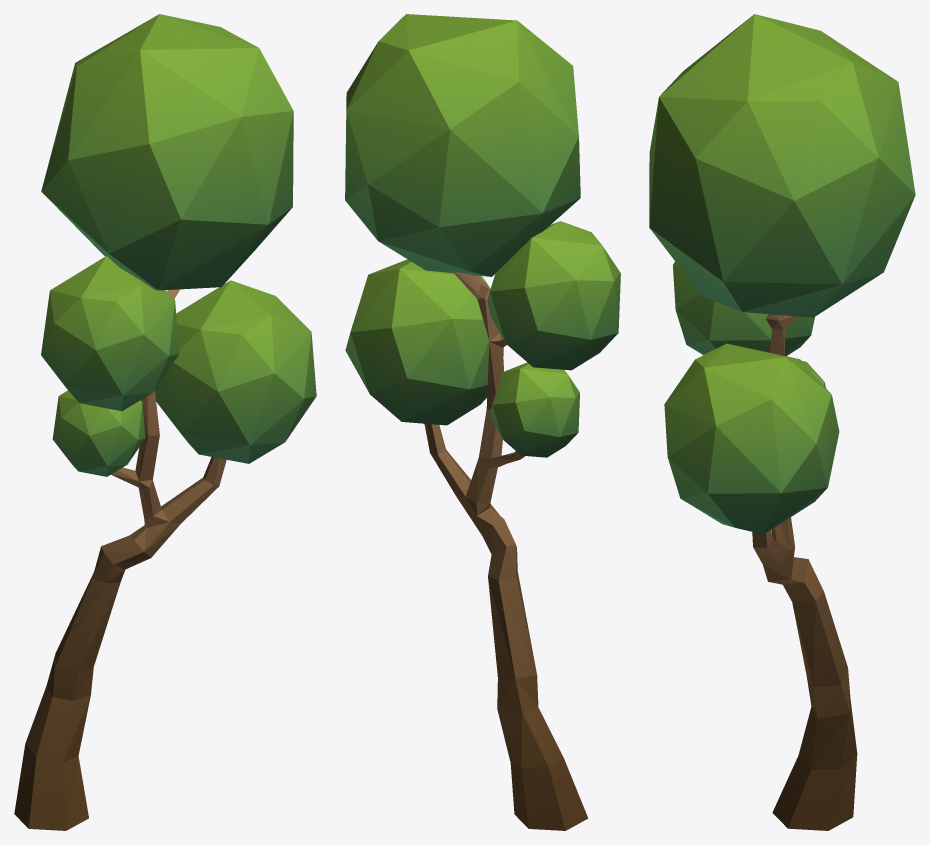
The model's file is ZLP_Plant_I_8.FBX.
The picture shows the model from 3 angles, left to right: view 1: azimuth 30°, elevation 25°; view 2: azimuth 150°, elevation 25°; view 3: azimuth 270°, elevation 25°; orthographic projection. The views are drawn at different scales.
Visible parts, largest first — view 1: ZLP_Plant_I_8; view 2: ZLP_Plant_I_8; view 3: ZLP_Plant_I_8.
Boxes of the visible parts, x1=… form: ZLP_Plant_I_8: x1=14, y1=14, x2=316, y2=830; ZLP_Plant_I_8: x1=345, y1=14, x2=620, y2=830; ZLP_Plant_I_8: x1=649, y1=14, x2=915, y2=830.
Bounding box in the file's own units: 63.23 × 184 × 53.17.
